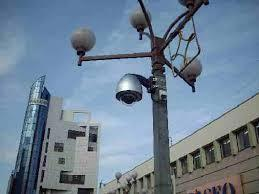maru: (115, 71, 144, 108)
